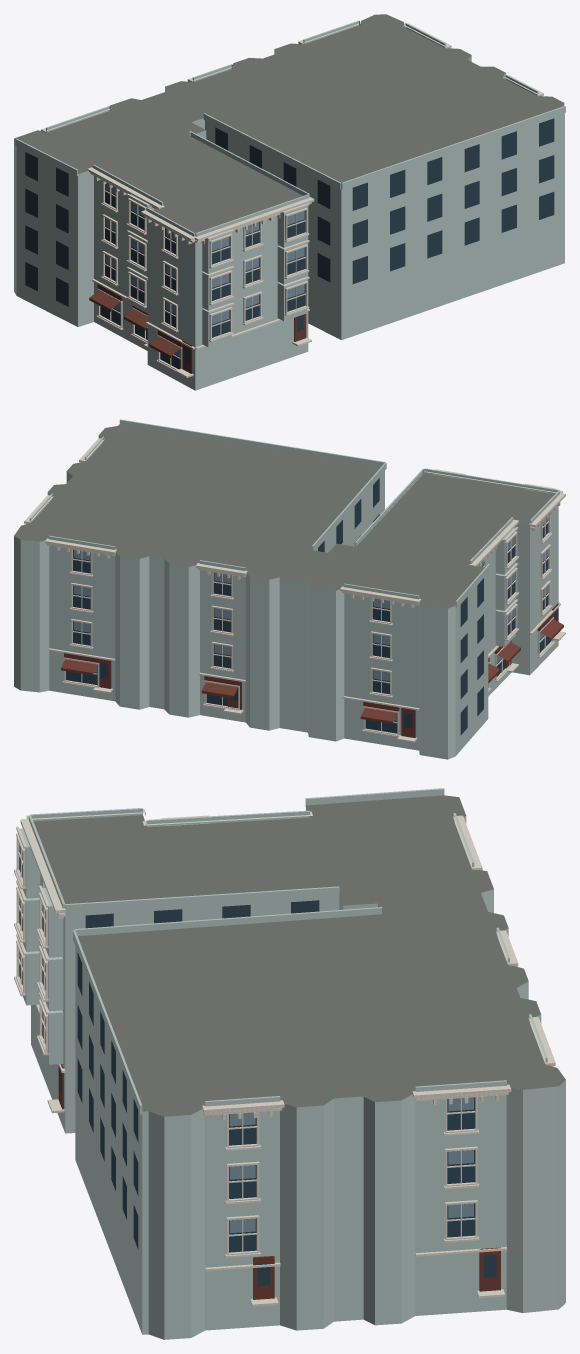
3 renders of one model, top to bottom at view 1: azimuth 30°, elevation 25°; view 2: azimuth 150°, elevation 25°; view 3: azimuth 270°, elevation 25°, orthographic. The views are drawn at different scales.
Visible parts, largest first — view 1: Footprint 0 / surface 2, Footprint 0 / surface 1, Inset glazing, Cornices and window frames, Facade bay volumes, Sky reflection panels, Storefronts and doors; view 2: Footprint 0 / surface 2, Footprint 0 / surface 1, Cornices and window frames, Facade bay volumes, Inset glazing, Storefronts and doors, Sky reflection panels; view 3: Footprint 0 / surface 1, Footprint 0 / surface 2, Facade bay volumes, Cornices and window frames, Inset glazing, Sky reflection panels, Storefronts and doors.
Part boxes in pixels (x1,y1,x2,y2): Footprint 0 / surface 2: (14,50,564,390); Footprint 0 / surface 1: (14,14,564,233); Inset glazing: (25,118,554,369); Cornices and window frames: (41,23,543,377); Facade bay volumes: (15,20,565,347); Sky reflection panels: (105,182,304,356); Storefronts and doors: (89,284,306,373); Footprint 0 / surface 2: (14,436,558,759); Footprint 0 / surface 1: (14,424,554,608); Cornices and window frames: (24,438,565,742); Facade bay volumes: (29,419,560,646); Inset glazing: (66,478,557,735); Storefronts and doors: (61,603,563,737); Sky reflection panels: (73,518,548,720); Footprint 0 / surface 1: (33,795,565,1116); Footprint 0 / surface 2: (31,805,565,1339); Facade bay volumes: (20,788,547,1114); Cornices and window frames: (14,809,555,1306); Inset glazing: (19,851,496,1286); Sky reflection panels: (19,844,473,1233); Storefronts and doors: (58,1064,500,1299).
Size of the model in its own units: 38.66 by 12.83 by 27.98.
